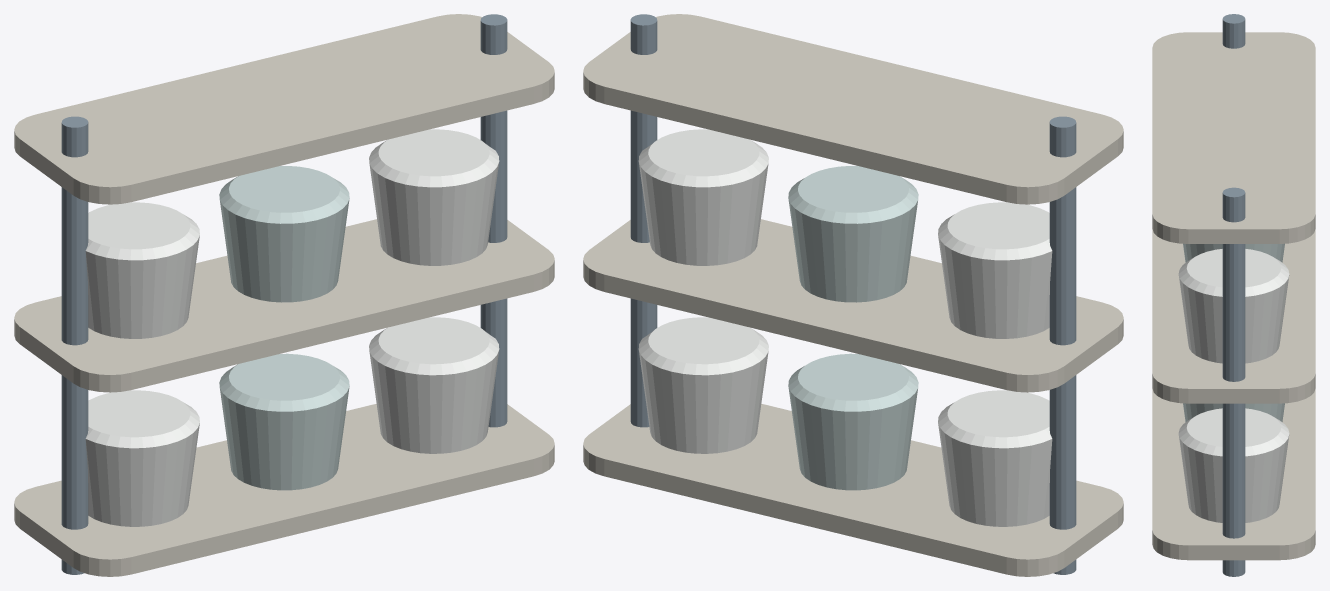
The model's file is school_storage_cubbies.glb.
3 renders of one model, left to right at view 1: azimuth 30°, elevation 25°; view 2: azimuth 150°, elevation 25°; view 3: azimuth 270°, elevation 25°, orthographic. The views are drawn at different scales.
Visible parts, largest first — view 1: decor_aaa493_matte, decor_d8dcd8_matte, decor_9bb7b5_matte, decor_455665_metal; view 2: decor_aaa493_matte, decor_d8dcd8_matte, decor_9bb7b5_matte, decor_455665_metal; view 3: decor_aaa493_matte, decor_d8dcd8_matte, decor_455665_metal, decor_9bb7b5_matte.
Part boxes in pixels (box(x1,y1,x2,y2)): decor_aaa493_matte: box(14, 14, 554, 576); decor_d8dcd8_matte: box(85, 129, 499, 526); decor_9bb7b5_matte: box(219, 166, 349, 490); decor_455665_metal: box(61, 14, 507, 574); decor_aaa493_matte: box(583, 14, 1123, 576); decor_d8dcd8_matte: box(638, 129, 1052, 526); decor_9bb7b5_matte: box(788, 166, 918, 490); decor_455665_metal: box(630, 14, 1076, 574); decor_aaa493_matte: box(1152, 32, 1315, 560); decor_d8dcd8_matte: box(1178, 249, 1289, 522); decor_455665_metal: box(1222, 14, 1245, 576); decor_9bb7b5_matte: box(1183, 243, 1284, 421).
Size of the model in its own units: 1.43 by 1.28 by 0.5.
